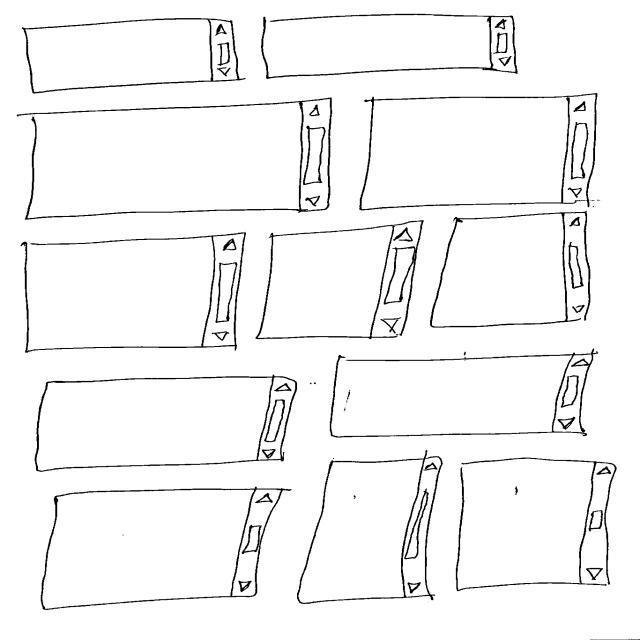textarea: (17, 98, 333, 220), (41, 488, 292, 611), (360, 94, 598, 211), (20, 233, 247, 353), (35, 376, 298, 473), (330, 349, 599, 438), (298, 452, 443, 605), (457, 458, 618, 592), (256, 221, 424, 340), (431, 212, 591, 329), (22, 19, 248, 95), (261, 15, 518, 80)
